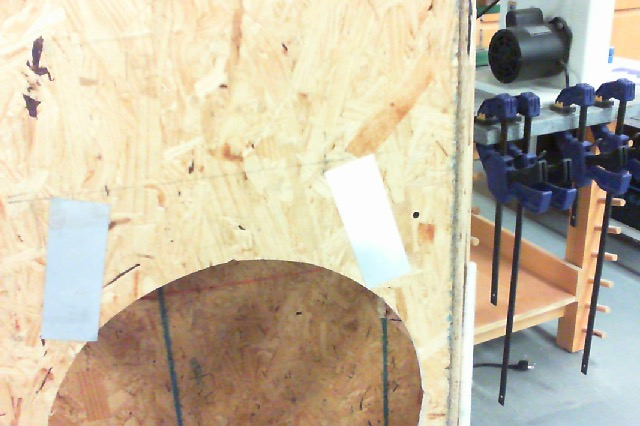Tape: (324, 152, 411, 286), (38, 198, 111, 341)
